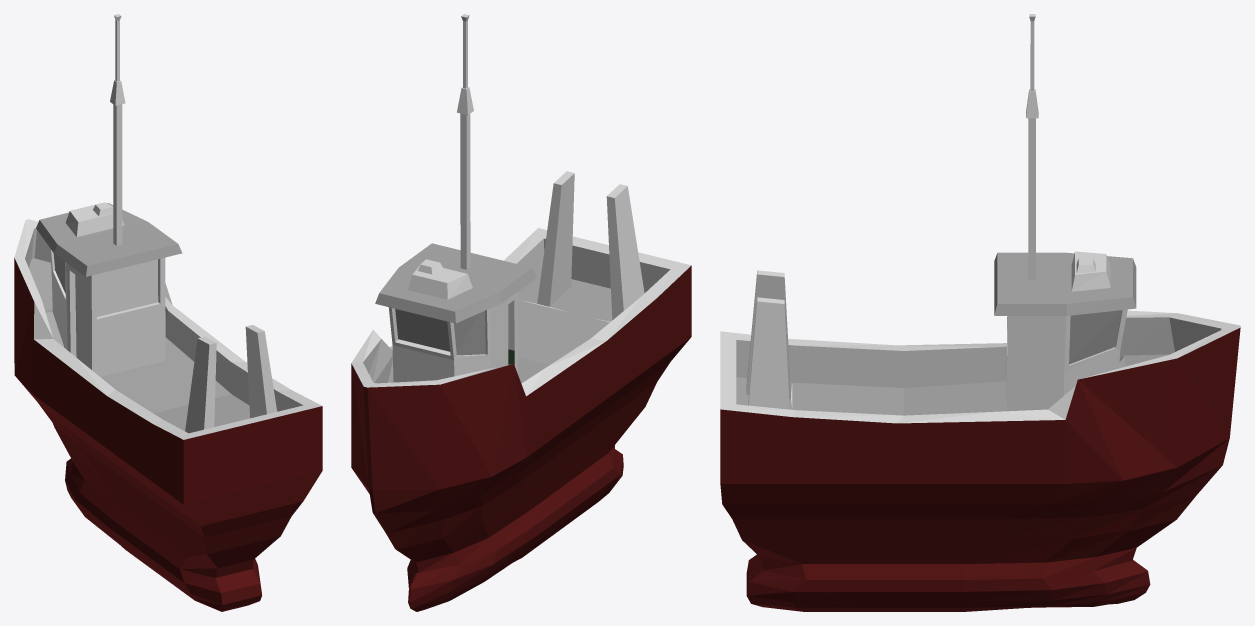
The model's file is BootZonderRopes.fbx.
3 renders of one model, left to right at view 1: azimuth 30°, elevation 25°; view 2: azimuth 150°, elevation 25°; view 3: azimuth 270°, elevation 25°, orthographic. The views are drawn at different scales.
Parts seen in each view (by area): view 1: polySurface1; view 2: polySurface1; view 3: polySurface1.
Boxes of the visible parts, box(x1,y1,x2,y2) form: polySurface1: box(14, 14, 322, 611); polySurface1: box(351, 14, 691, 611); polySurface1: box(720, 14, 1240, 611).
Bounding box in the file's own units: 1.67 × 5.88 × 4.71.
